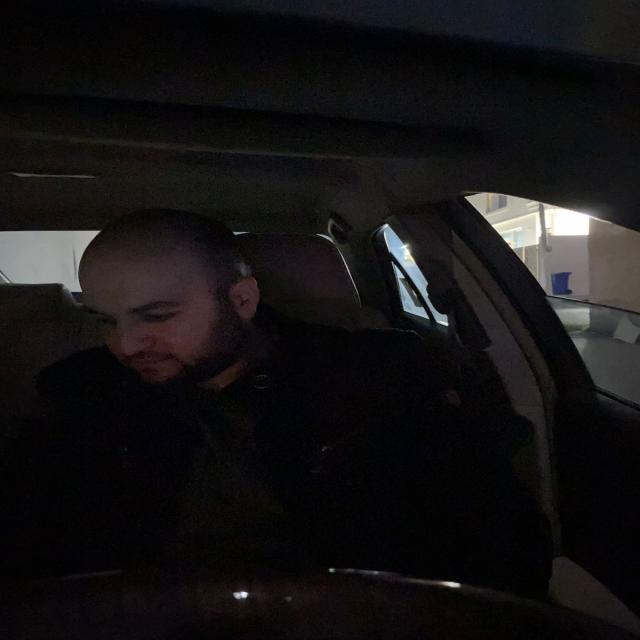person: (68, 222, 276, 387)
